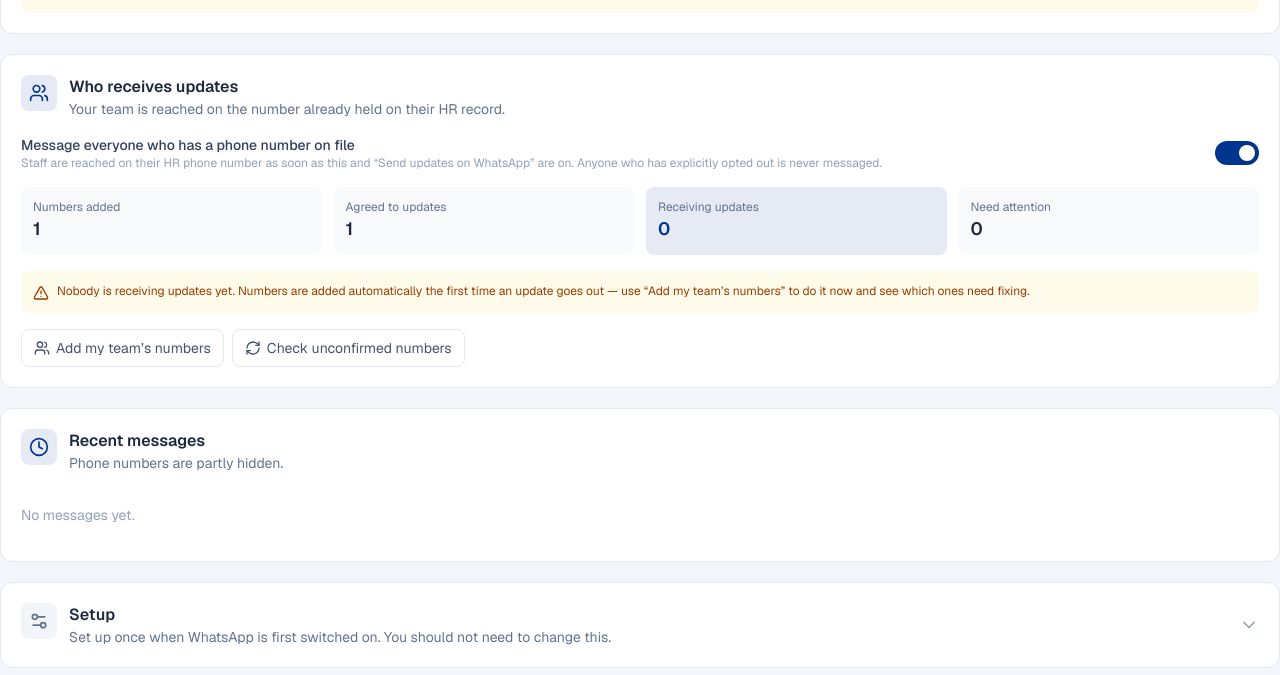
Test case: WhatsAppSettingsSection — adding the team’s numbers › previews without writing anything
(page scrolled)
Click the button "Add my team’s numbers": {"x": 122, "y": 348} [21, 329, 224, 367]
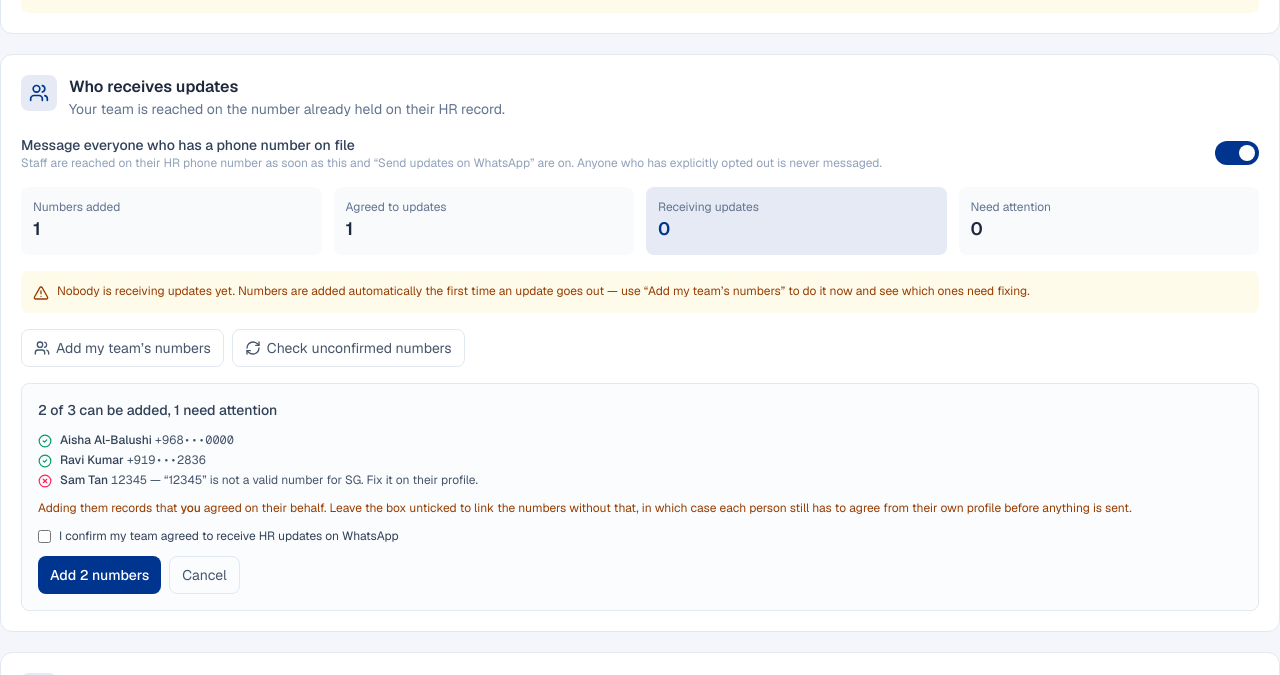
Expected: the text "2 of 3 can be added, 1 need attention" is shown, [38, 401, 277, 419]
